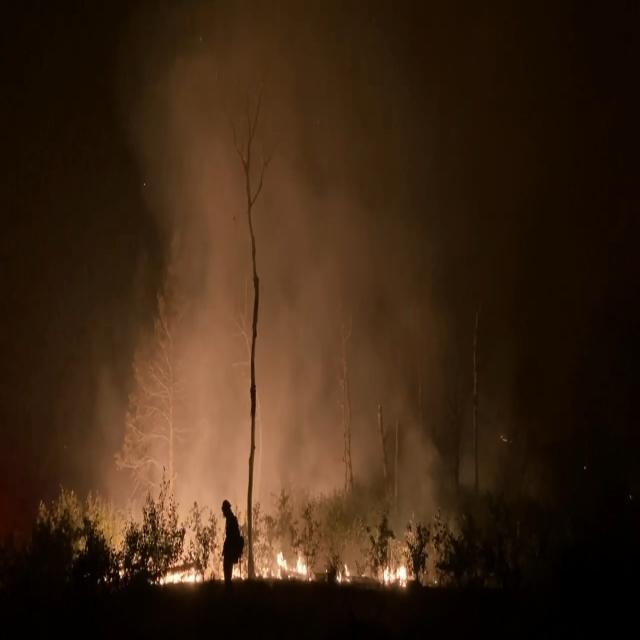Fire: (140, 544, 424, 590)
